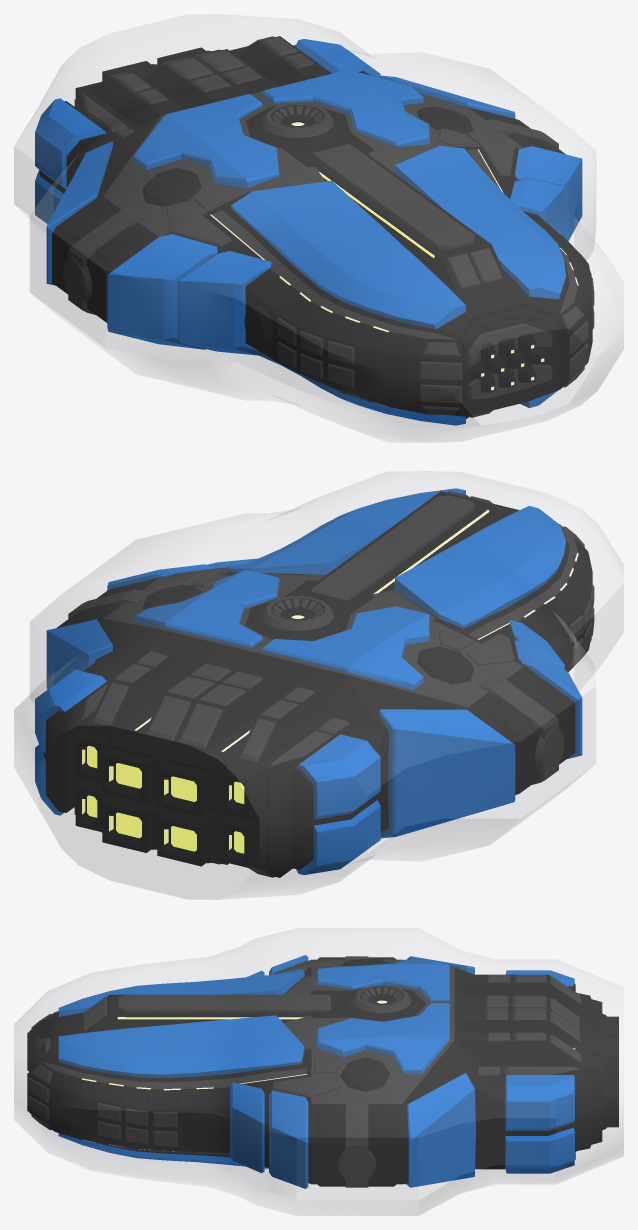
The model's file is 01_ship_capital_tradnios.glb.
3 renders of one model, top to bottom at view 1: azimuth 30°, elevation 25°; view 2: azimuth 150°, elevation 25°; view 3: azimuth 270°, elevation 25°, orthographic. The views are drawn at different scales.
Visible parts, largest first — view 1: 01_ship_capital_tradnios_aegis, 01_ship_capital_tradnios, 01_weapon_torparray_tradnios.001; view 2: 01_ship_capital_tradnios_aegis, 01_ship_capital_tradnios; view 3: 01_ship_capital_tradnios_aegis, 01_ship_capital_tradnios.
Boxes of the visible parts, left/top/right/bottom form: 01_ship_capital_tradnios_aegis: left=14, top=14, right=623, bottom=442; 01_ship_capital_tradnios: left=35, top=36, right=594, bottom=425; 01_weapon_torparray_tradnios.001: left=470, top=333, right=545, bottom=392; 01_ship_capital_tradnios_aegis: left=14, top=471, right=623, bottom=899; 01_ship_capital_tradnios: left=35, top=488, right=594, bottom=877; 01_ship_capital_tradnios_aegis: left=14, top=928, right=623, bottom=1215; 01_ship_capital_tradnios: left=27, top=955, right=618, bottom=1188.
Bounding box in the file's own units: 0.767 × 0.3349 × 1.02.
